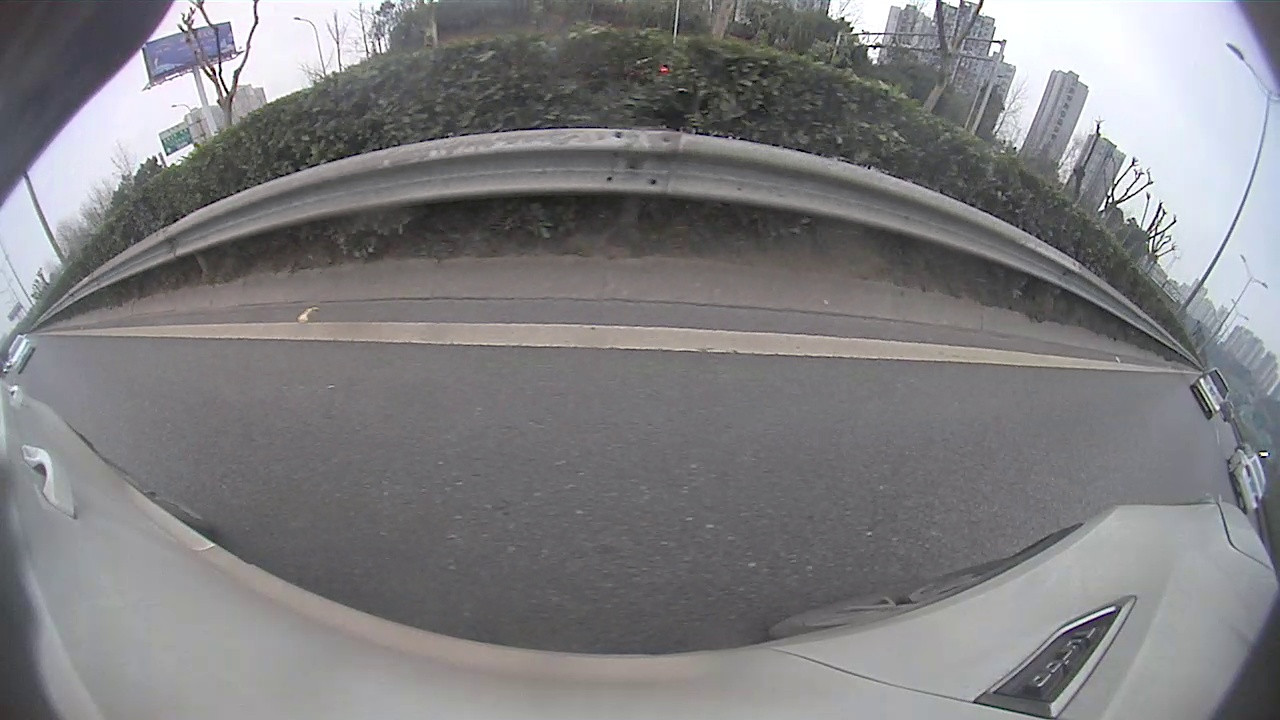car: (1229, 448, 1265, 512), (1190, 365, 1228, 420), (7, 337, 37, 372)
